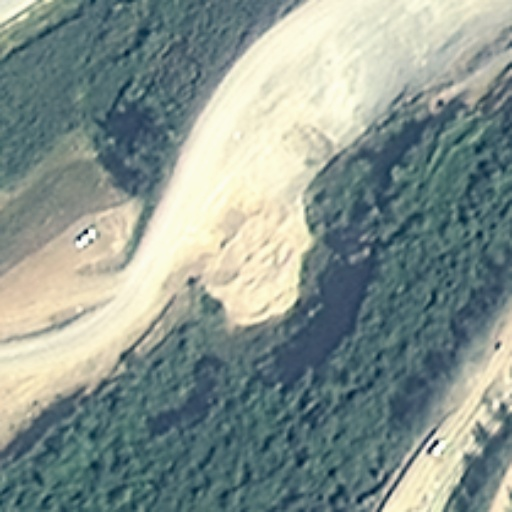landslide: (174, 194, 316, 331)
